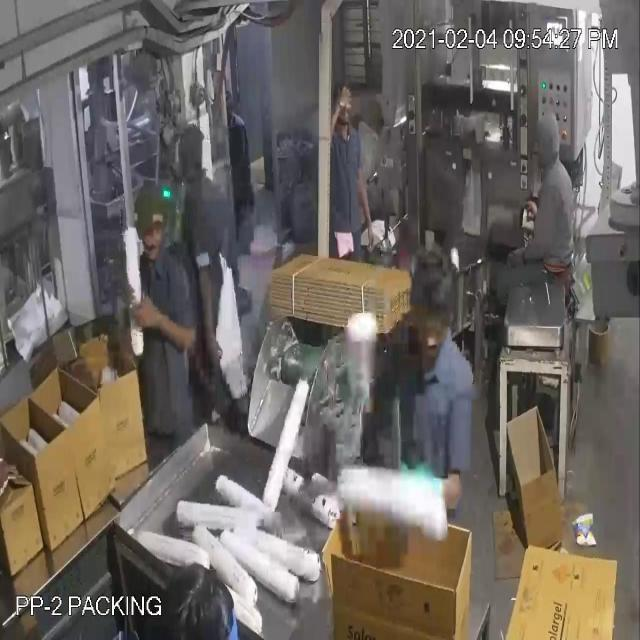No_Gloves: (26, 69, 363, 322)
